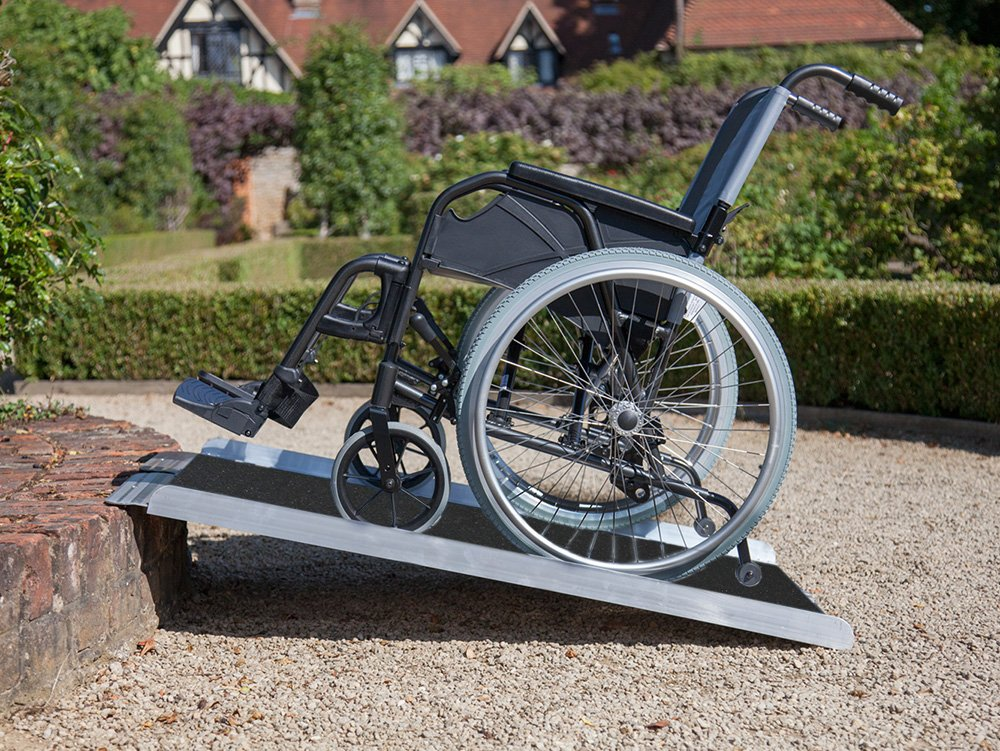wheelchair: (179, 41, 820, 595)
